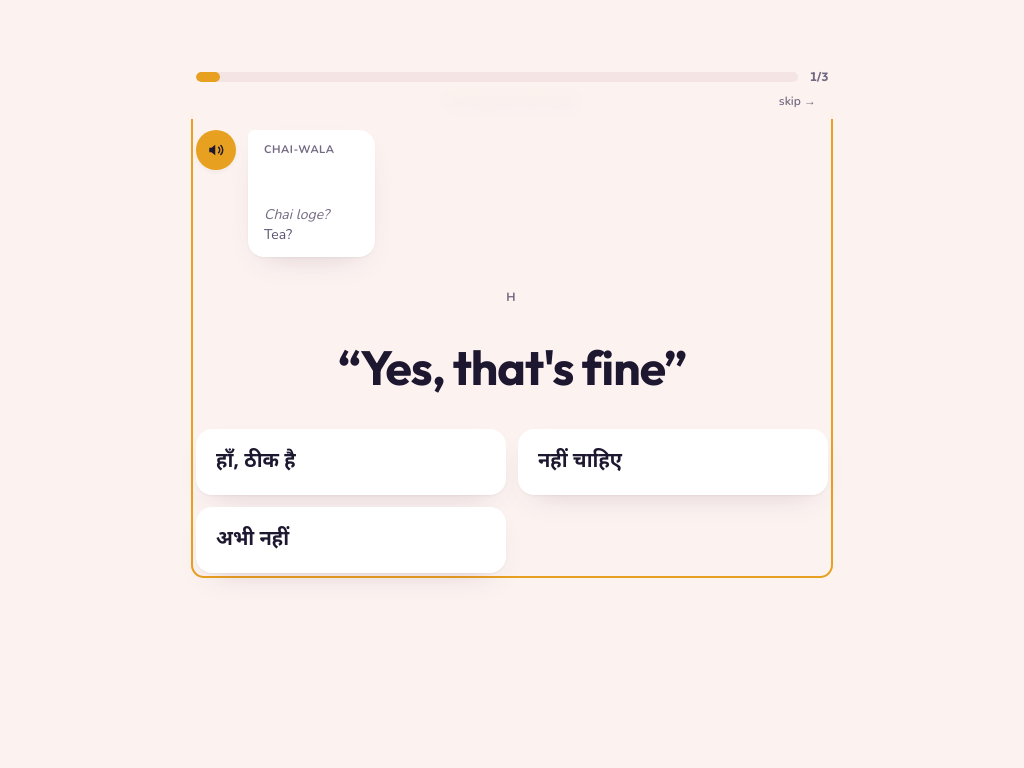
Test case: ExerciseRunner › scenes › moves a finished turn into the conversation so far
The width and height of the screenshot is (1024, 768).
Click the button "हाँ, ठीक है".
click(256, 462)  # box left=196, top=429, right=506, bottom=495
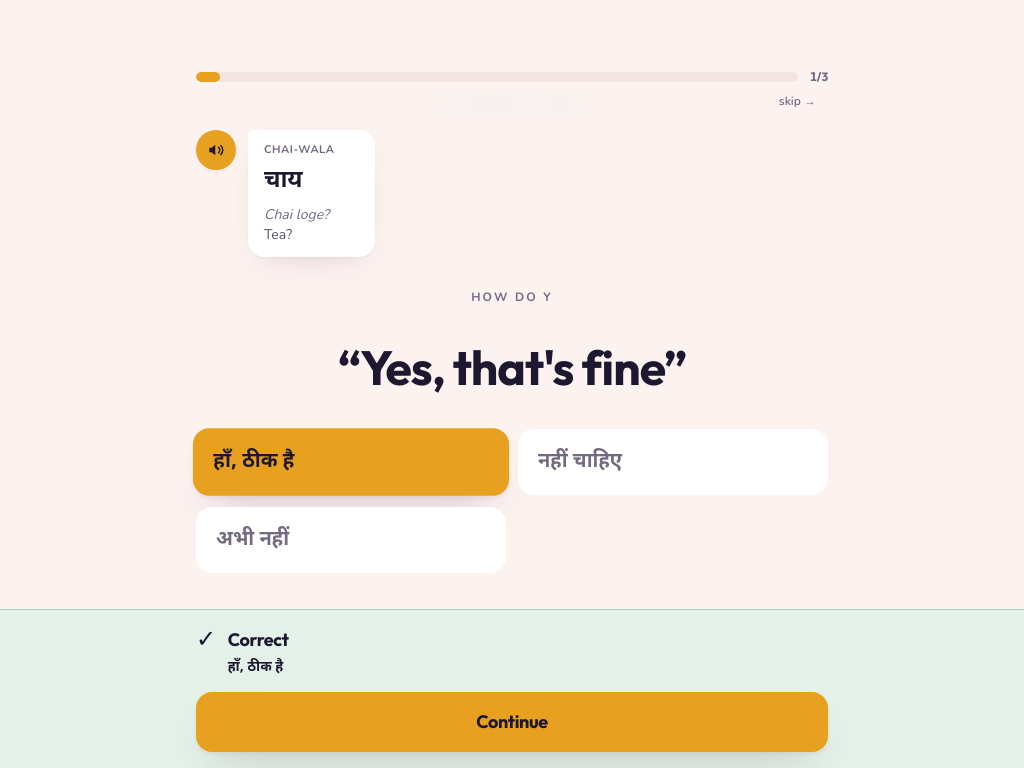
Click the button "Continue".
click(512, 722)  # box left=196, top=692, right=828, bottom=752
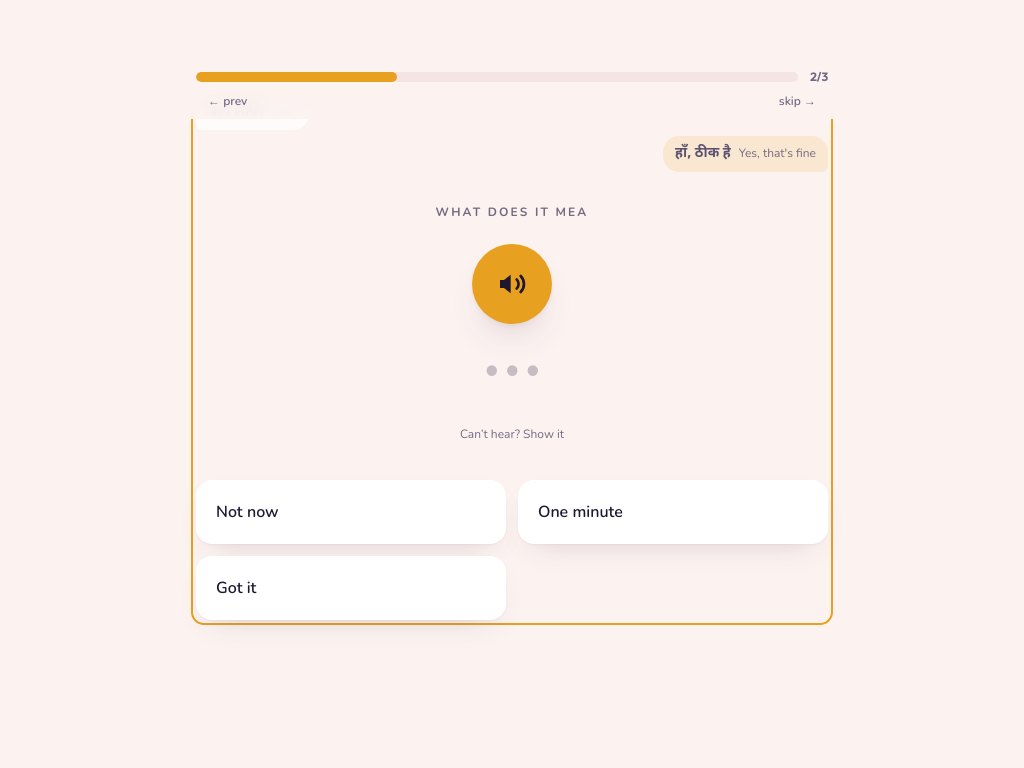
Check: the text "Yes, that's fine" is shown, box left=739, top=145, right=816, bottom=161
Check: the text "2/3" is shown, box left=810, top=69, right=828, bottom=85
Check: the text "A roadside chai stall." is gone
